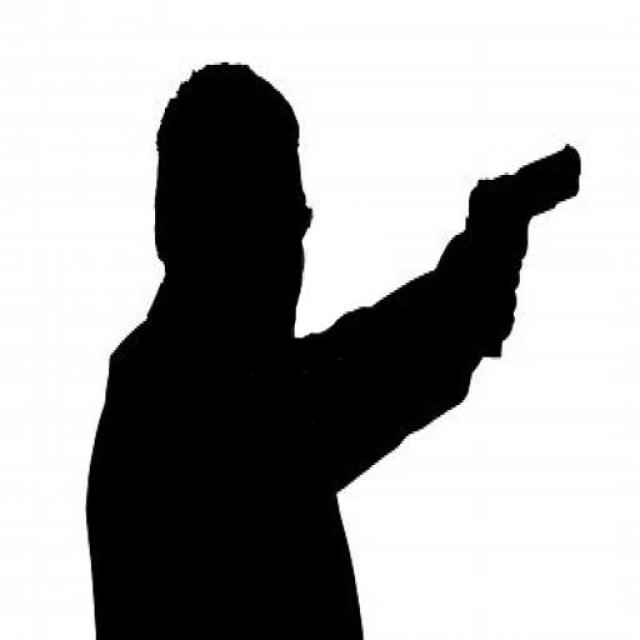pistol: (462, 134, 585, 316)
